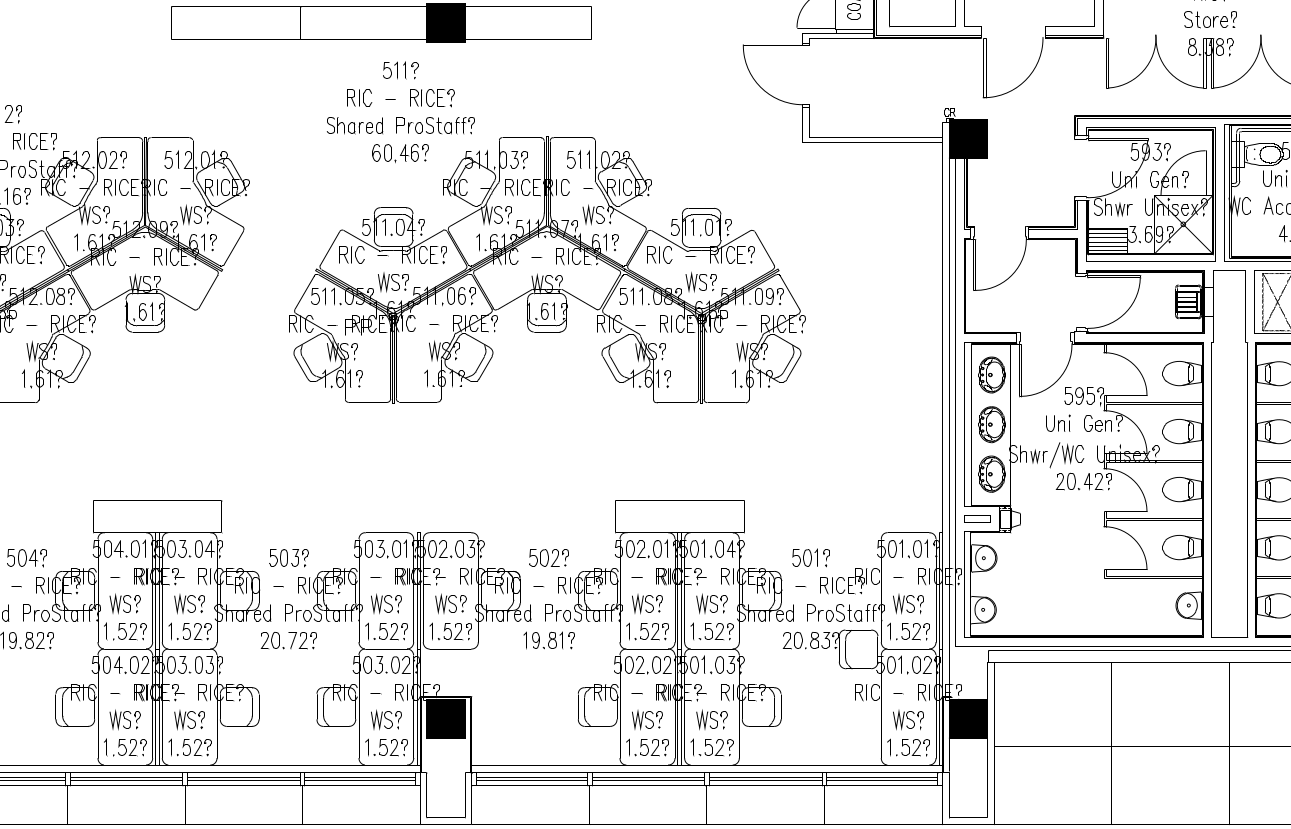door: (1102, 36, 1210, 97), (1208, 30, 1291, 97), (732, 39, 802, 111), (976, 37, 1046, 109), (968, 235, 1033, 300), (1082, 271, 1144, 331), (1016, 342, 1074, 404), (1100, 349, 1151, 401), (1103, 522, 1154, 574), (1102, 466, 1153, 518)
